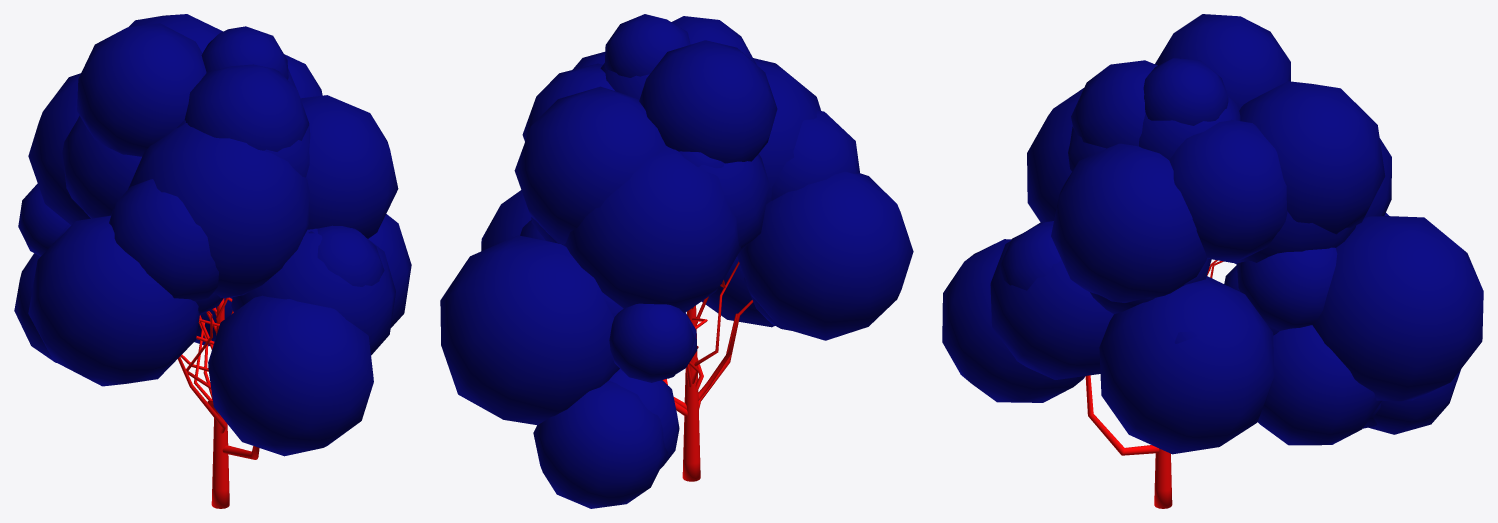
Rendered from MarioTree.fbx.
The picture shows the model from 3 angles, left to right: view 1: azimuth 30°, elevation 25°; view 2: azimuth 150°, elevation 25°; view 3: azimuth 270°, elevation 25°; orthographic projection.
Visible parts, largest first — view 1: merge1; view 2: merge1; view 3: merge1.
Part boxes in pixels (bbox=[...]): merge1: bbox=[14, 14, 411, 508]; merge1: bbox=[440, 14, 913, 508]; merge1: bbox=[942, 14, 1483, 508].
Size of the model in its own units: 18.78 by 21.68 by 23.02.
